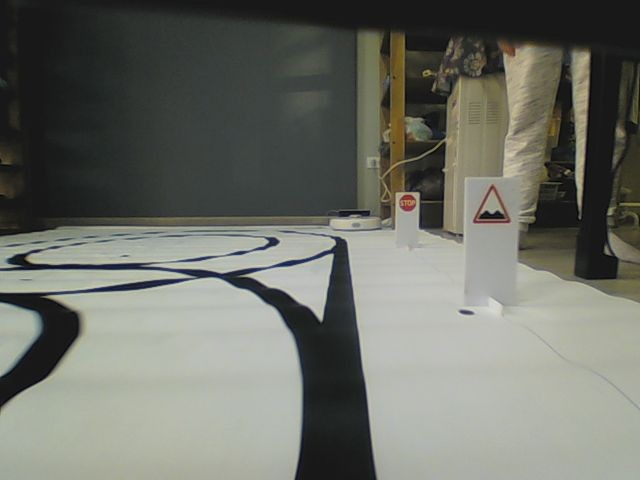Nerov: (473, 183, 512, 226)
Stop: (398, 193, 417, 212)
